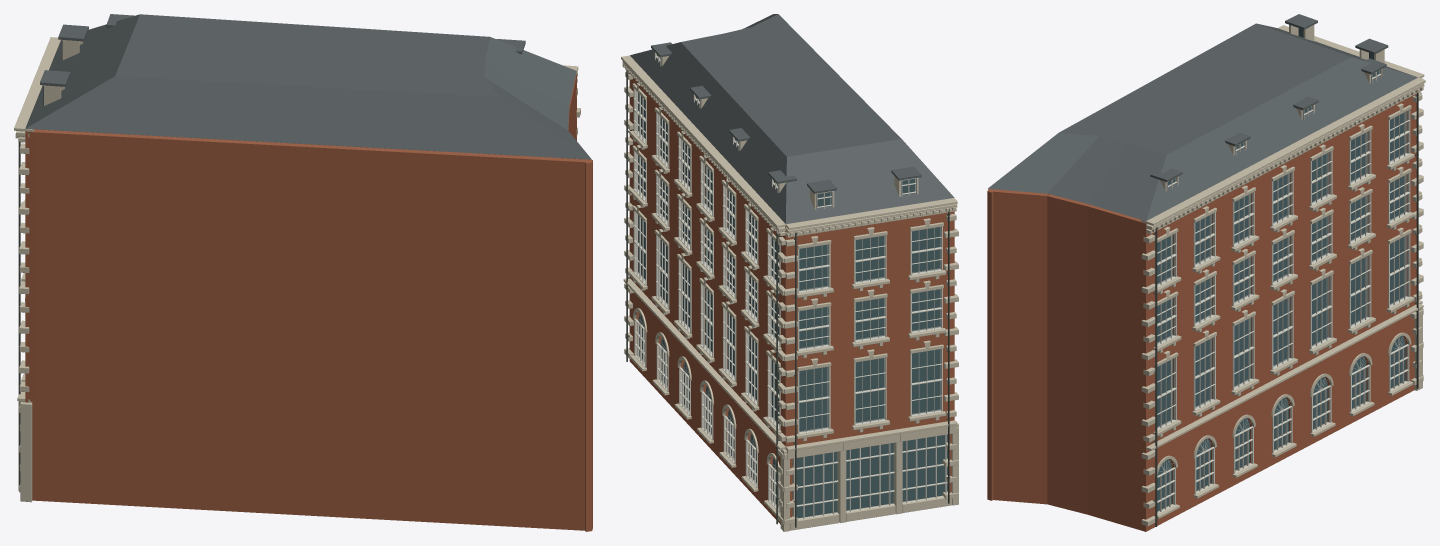
File: lak-exterior-591f1b35696f.glb
3 views of the same model, side by side, from view 1: azimuth 30°, elevation 25°; view 2: azimuth 150°, elevation 25°; view 3: azimuth 270°, elevation 25° (orthographic). The views are drawn at different scales.
Parts seen in each view (by area): view 1: LAK.001; view 2: LAK.001; view 3: LAK.001.
Boxes of the visible parts, left/top/right/bottom form: LAK.001: left=14, top=14, right=592, bottom=531; LAK.001: left=621, top=14, right=958, bottom=531; LAK.001: left=987, top=14, right=1425, bottom=531.
Size of the model in its own units: 21.55 by 17.55 by 20.1.
